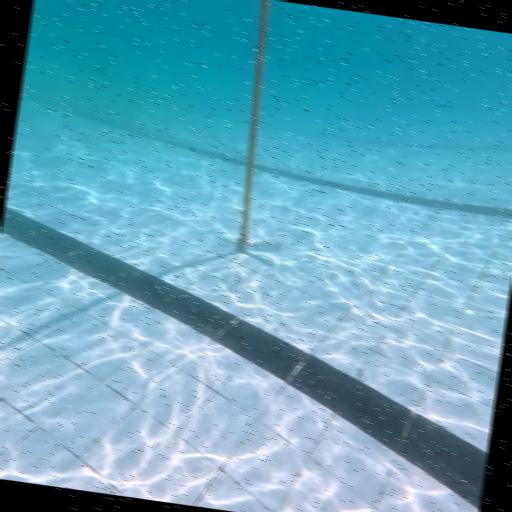pole_gate: (226, 0, 282, 249)
